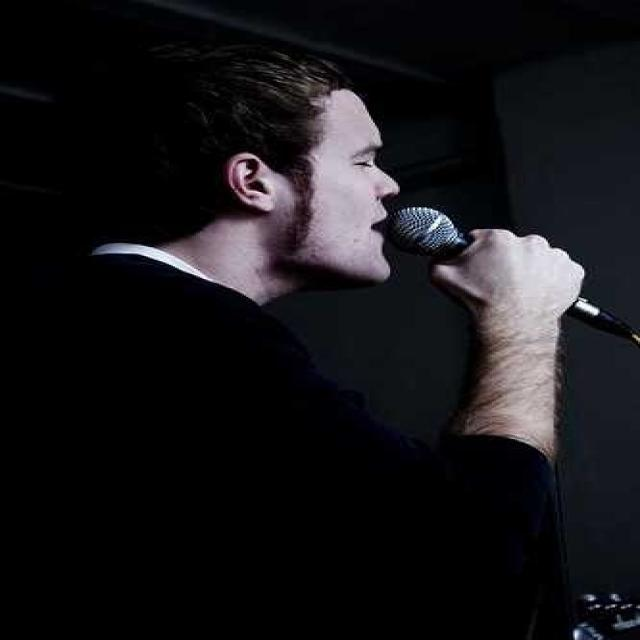microphone: (390, 205, 640, 346)
